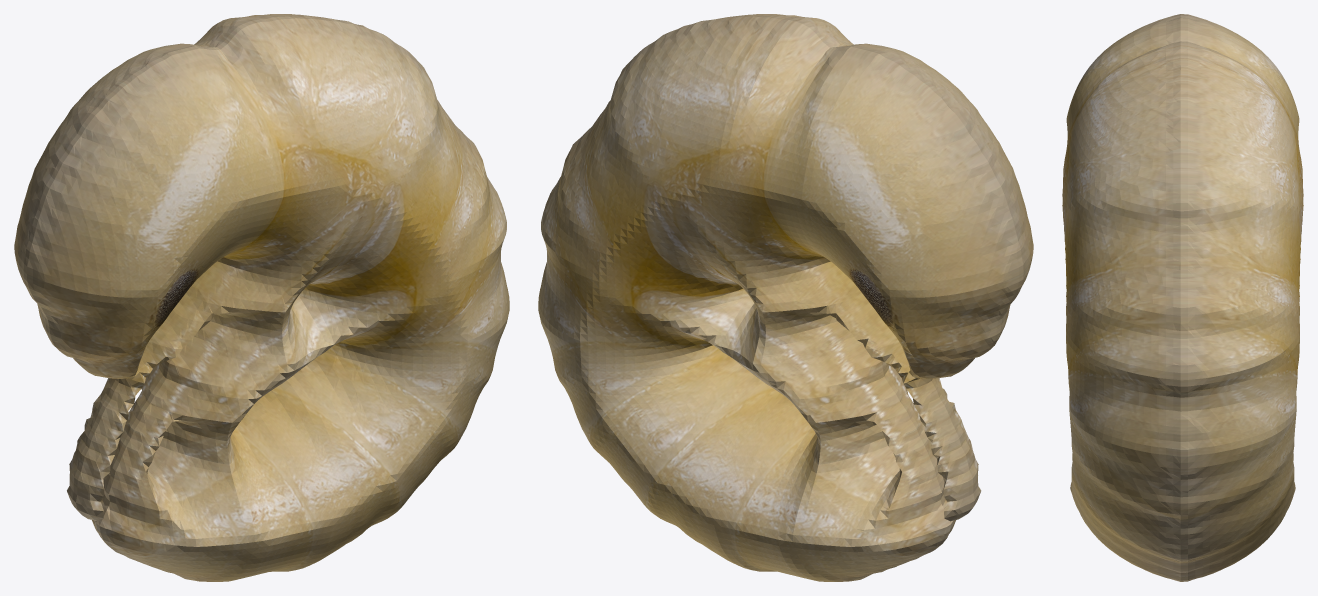
Rendered from pupa_cream.glb.
3 renders of one model, left to right at view 1: azimuth 30°, elevation 25°; view 2: azimuth 150°, elevation 25°; view 3: azimuth 270°, elevation 25°, orthographic. The views are drawn at different scales.
Parts seen in each view (by area): view 1: pupa_cream; view 2: pupa_cream; view 3: pupa_cream.
Part boxes in pixels (<box>): pupa_cream: <box>14,14,509,581</box>; pupa_cream: <box>538,14,1033,581</box>; pupa_cream: <box>1062,14,1303,581</box>.
Bounding box in the file's own units: 0.9758 × 1.08 × 0.4586.
Materials: 1 (1 with a texture image).
